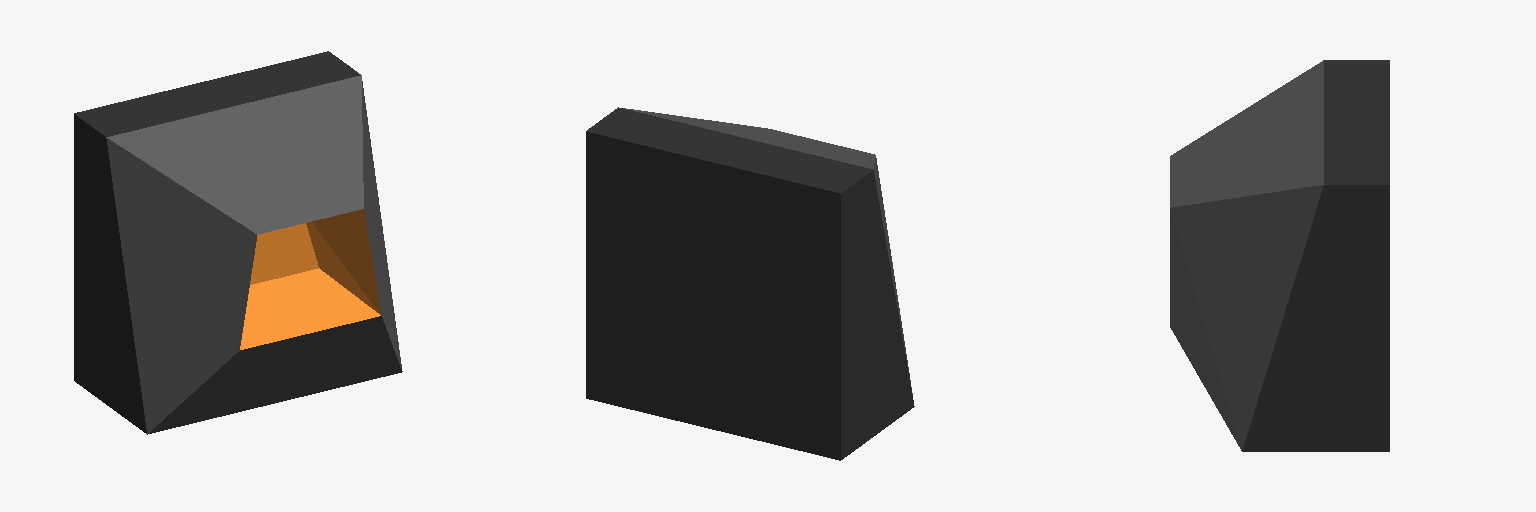
File: LaserGen.obj
3 views of the same model, side by side, from view 1: azimuth 30°, elevation 25°; view 2: azimuth 150°, elevation 25°; view 3: azimuth 270°, elevation 25° (orthographic).
Parts seen in each view (by area): view 1: LaserGen; view 2: LaserGen; view 3: LaserGen.
Part boxes in pixels (left/top/right/bottom): LaserGen: left=74, top=51, right=402, bottom=434; LaserGen: left=586, top=107, right=914, bottom=460; LaserGen: left=1170, top=60, right=1389, bottom=451.
Bounding box in the file's own units: 0.9 × 0.9 × 0.6688.